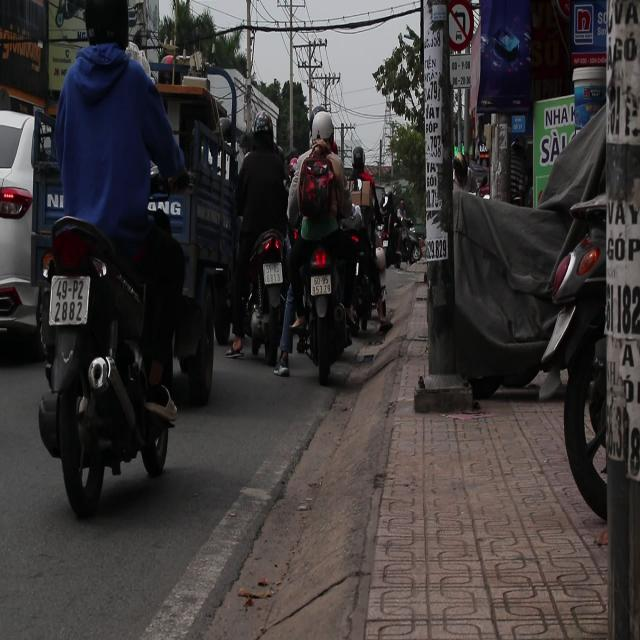car: (1, 104, 63, 371)
motorbike: (35, 218, 180, 512), (282, 232, 353, 384), (331, 193, 394, 356), (248, 230, 294, 378)
